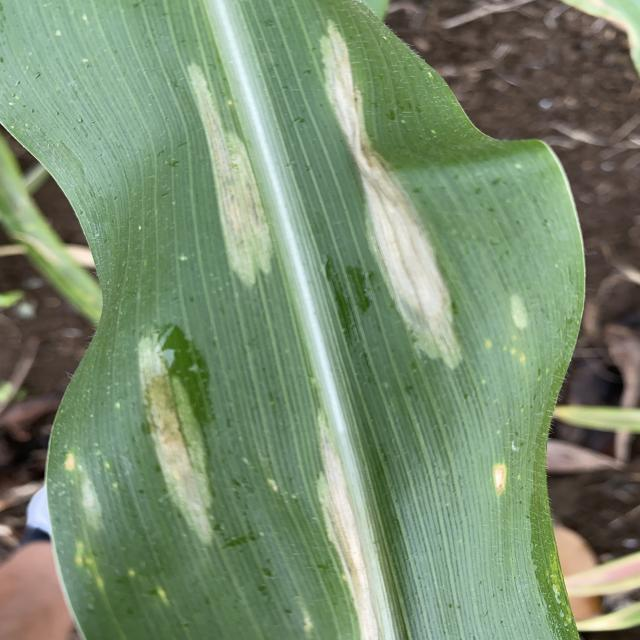Corn_Leaf_Blight: (67, 11, 551, 640)
